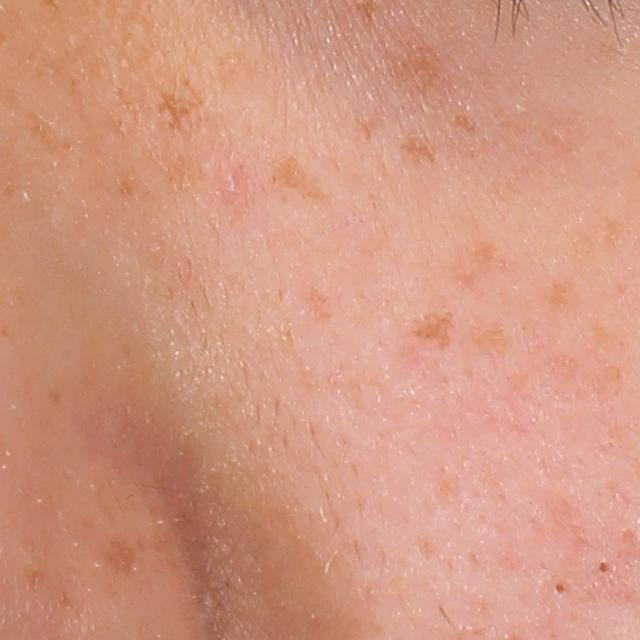comedo: (546, 577, 571, 601), (593, 556, 616, 582)
melasma: (381, 26, 449, 100), (263, 147, 338, 208), (151, 72, 210, 131), (404, 305, 458, 354), (463, 317, 516, 359), (397, 124, 445, 169), (298, 280, 336, 328), (538, 277, 580, 320), (100, 537, 140, 577), (452, 112, 479, 136)
